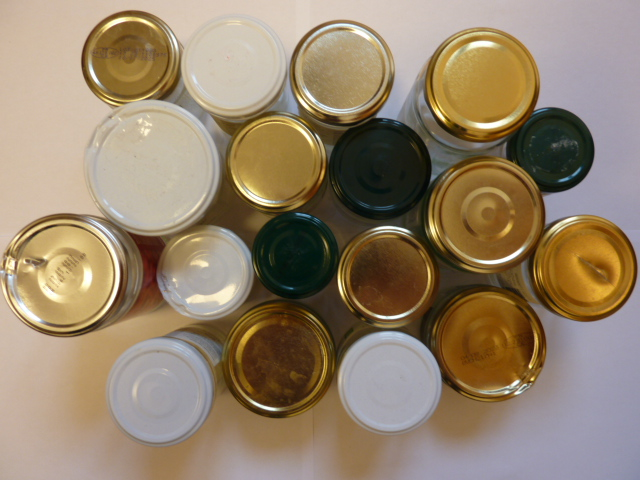intact: (291, 21, 394, 121)
